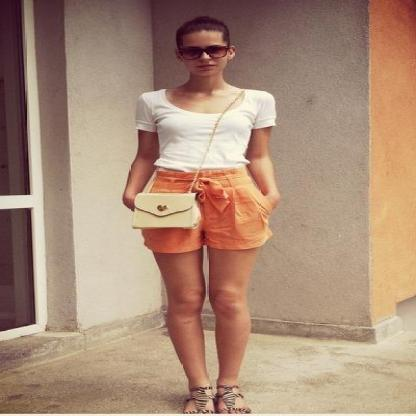bag: (122, 191, 200, 228)
shirt: (134, 89, 276, 172)
shoe: (175, 374, 261, 416)
shorts: (137, 169, 279, 259)
sunglass: (174, 35, 228, 60)
